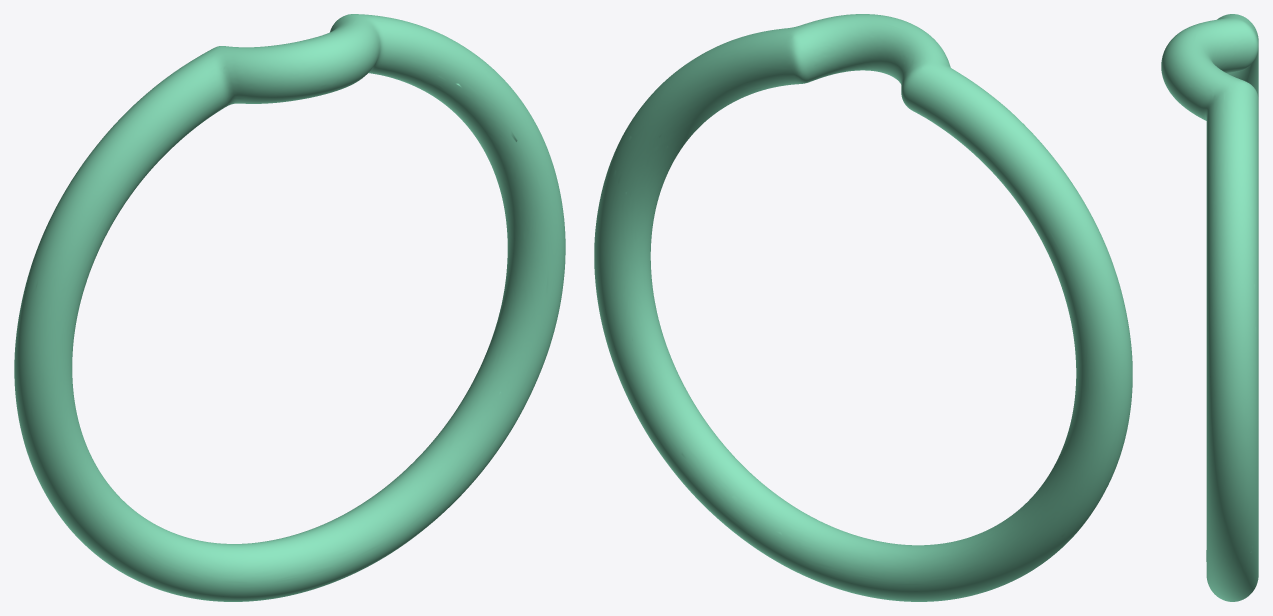
3 renders of one model, left to right at view 1: azimuth 30°, elevation 25°; view 2: azimuth 150°, elevation 25°; view 3: azimuth 270°, elevation 25°, orthographic. The views are drawn at different scales.
Visible parts, largest first — view 1: Metal03; view 2: Metal03; view 3: Metal03.
Part boxes in pixels (left/top/right/bottom): Metal03: left=14, top=14, right=565, bottom=601; Metal03: left=594, top=14, right=1132, bottom=601; Metal03: left=1161, top=14, right=1258, bottom=601.
Bounding box in the file's own units: 21.29 × 21.28 × 3.53.
